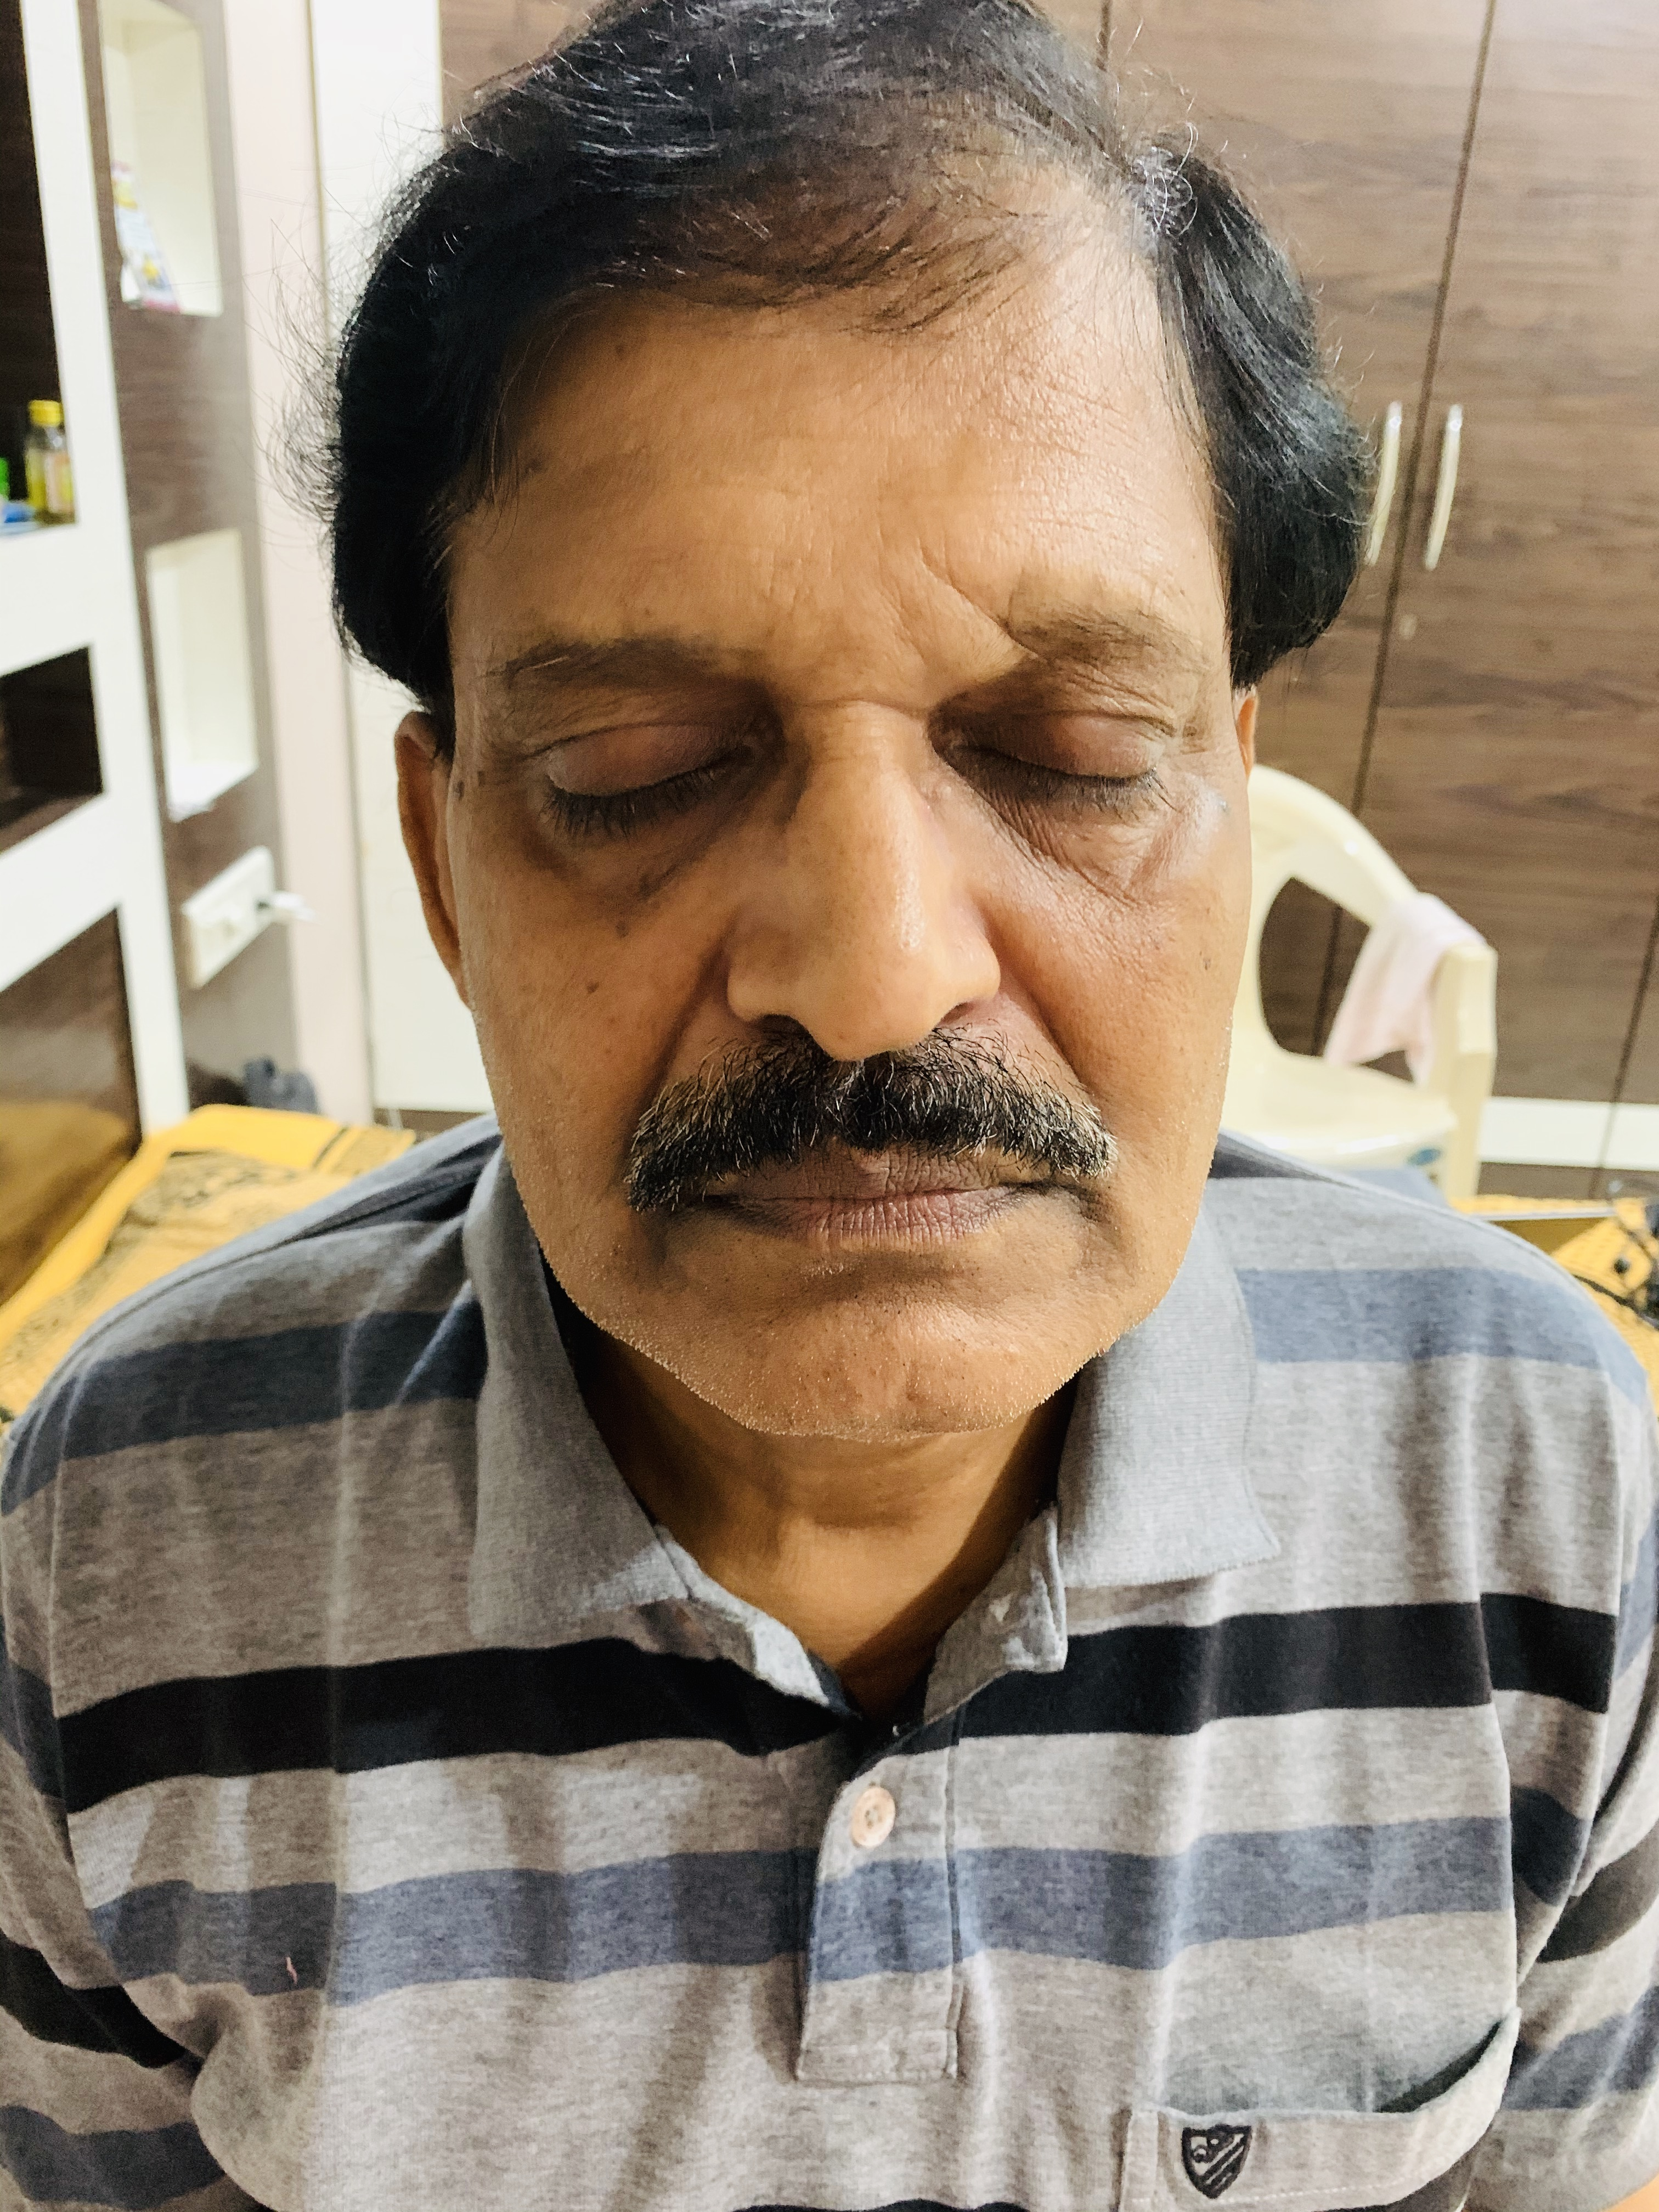Sleeping: (491, 676, 1204, 880)
